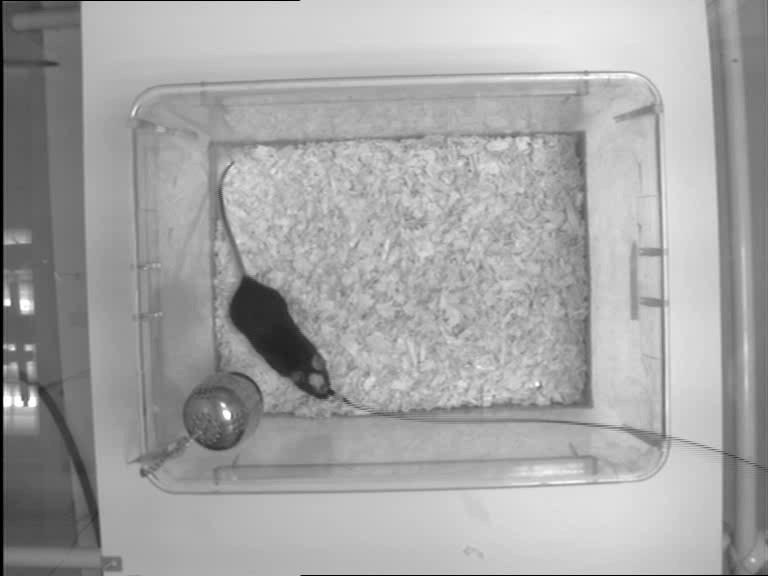mice: (217, 157, 342, 405)
